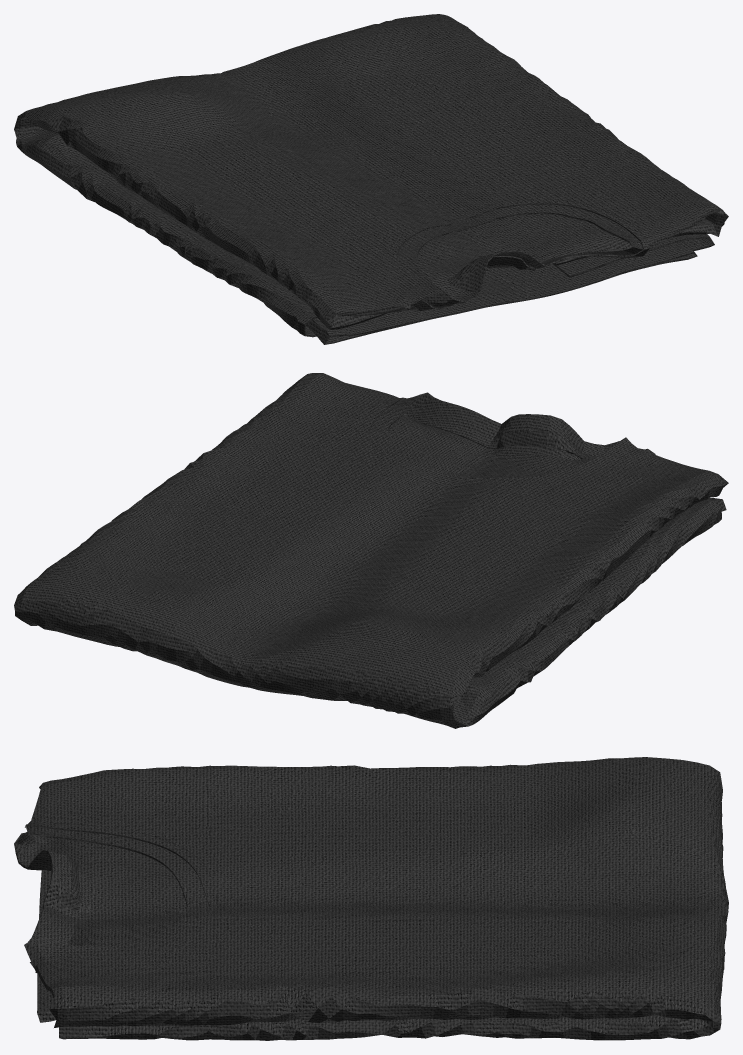
The model's file is T_shirt_body_378.fbx.
The picture shows the model from 3 angles, top to bottom: view 1: azimuth 30°, elevation 25°; view 2: azimuth 150°, elevation 25°; view 3: azimuth 270°, elevation 25°; orthographic projection. The views are drawn at different scales.
Parts seen in each view (by area): view 1: T_shirt_body_378; view 2: T_shirt_body_378; view 3: T_shirt_body_378.
Boxes of the visible parts, left/top/right/bottom form: T_shirt_body_378: left=14, top=14, right=728, bottom=344; T_shirt_body_378: left=14, top=373, right=728, bottom=728; T_shirt_body_378: left=14, top=757, right=728, bottom=1040.
Size of the model in its own units: 10.23 by 1.33 by 12.33.
